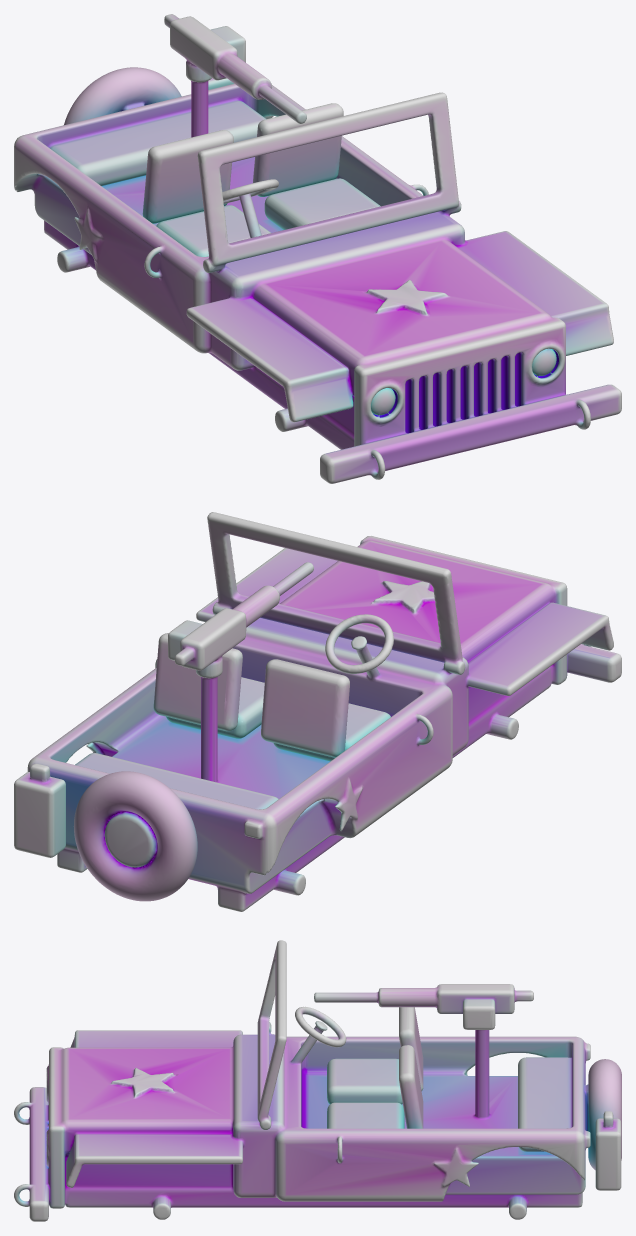
The model's file is jeep.glb.
The picture shows the model from 3 angles, top to bottom: view 1: azimuth 30°, elevation 25°; view 2: azimuth 150°, elevation 25°; view 3: azimuth 270°, elevation 25°; orthographic projection. The views are drawn at different scales.
Visible parts, largest first — view 1: jeep; view 2: jeep; view 3: jeep.
Boxes of the visible parts, <box> form: jeep: <box>14,14,621,483</box>; jeep: <box>14,512,621,911</box>; jeep: <box>14,940,621,1221</box>.
Bounding box in the file's own units: 0.9409 × 0.6746 × 1.88.
